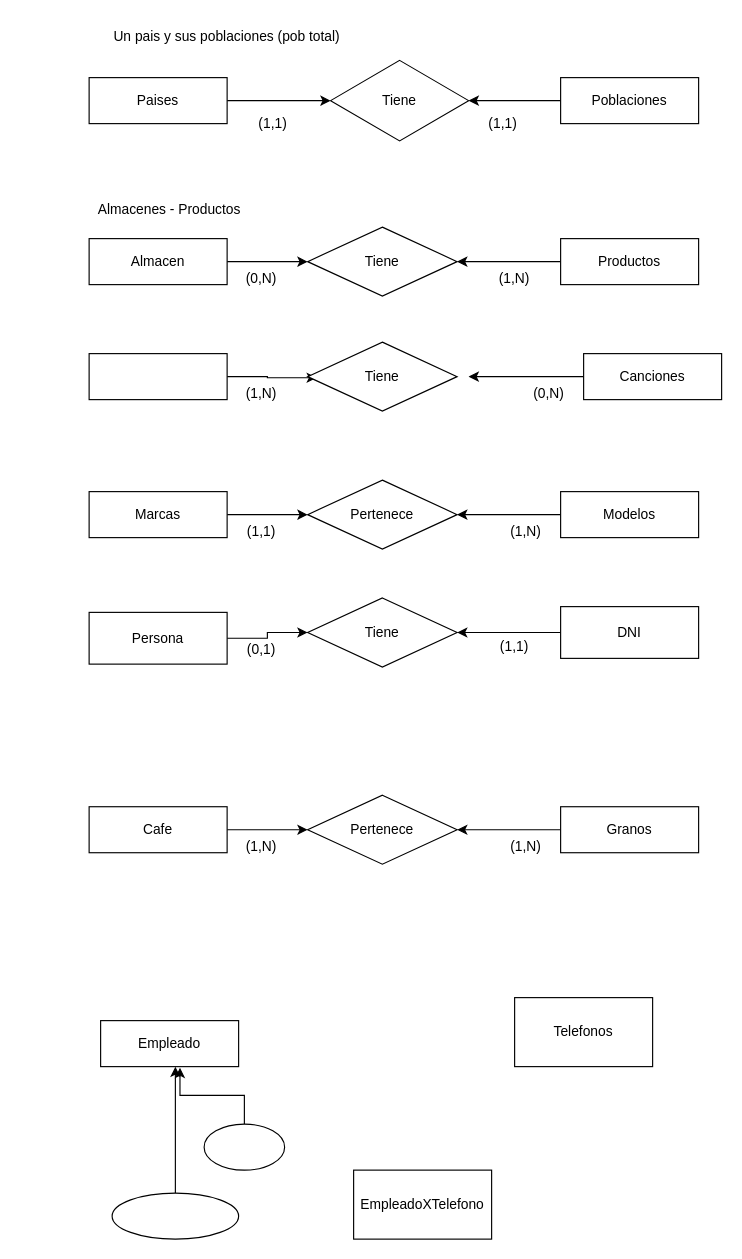
The diagram is 742 pixels wide and 1259 high, and some of its shapes have lost their labels. The centre of each missing label's shape, as x and y in pixels:
"Discos" goes at [157,376].
"Movil" goes at [244,1146].
"TelefonoParticular" goes at [175,1215].
